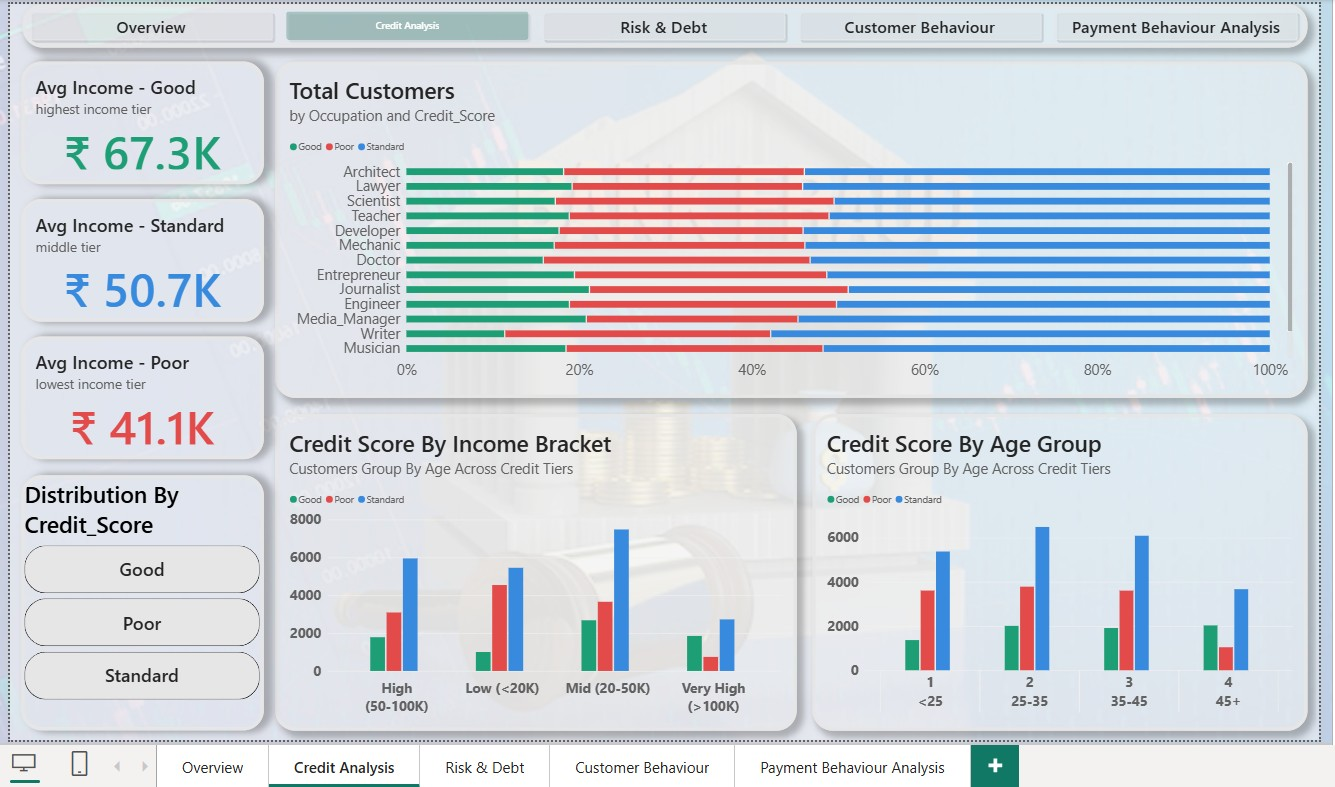

The dashboard page shown, as its layout file describes it:
{"tool":"powerbi","page":{"name":"Credit Analysis","canvas":[1920,1080],"ordinal":1},"visuals":[{"type":"hundredPercentStackedBarChart","fields":{"Category":["paisabazar_bank_fraud_detection_project-dataset.Occupation"],"Series":["paisabazar_bank_fraud_detection_project-dataset.Credit_Score"],"Y":["paisabazar_bank_fraud_detection_project-dataset.Total Customers"]},"box":[389.5,84.4,1514.9,493.4],"z":0},{"type":"clusteredColumnChart","title":"Credit Score By Age Group","fields":{"Y":["paisabazar_bank_fraud_detection_project-dataset.Total Customers"],"Series":["paisabazar_bank_fraud_detection_project-dataset.Credit_Score"],"Category":["paisabazar_bank_fraud_detection_project-dataset.Age Group","paisabazar_bank_fraud_detection_project-dataset.Age Group Order"]},"box":[1178.4,601.1,726.5,464.9],"z":1000},{"type":"clusteredColumnChart","title":"Credit Score By Income Bracket","fields":{"Y":["paisabazar_bank_fraud_detection_project-dataset.Total Customers"],"Series":["paisabazar_bank_fraud_detection_project-dataset.Credit_Score"],"Category":["paisabazar_bank_fraud_detection_project-dataset.Income Bracket"]},"box":[389.2,601.1,765.4,464.9],"z":3000},{"type":"card","title":"Avg Income - Good","fields":{"Values":["paisabazar_bank_fraud_detection_project-dataset.Avg Income Good"]},"box":[16.5,84.4,355.8,179.8],"z":4000},{"type":"card","title":"Avg Income - Poor","fields":{"Values":["paisabazar_bank_fraud_detection_project-dataset.Avg Income Poor"]},"box":[16.5,487.9,355.8,179.8],"z":5000},{"type":"card","title":"Avg Income - Standard","fields":{"Values":["paisabazar_bank_fraud_detection_project-dataset.Avg Income Standard"]},"box":[16.5,286.1,355.8,179.8],"z":6000},{"type":"advancedSlicerVisual","title":"Distribution By Credit_Score","fields":{"Values":["paisabazar_bank_fraud_detection_project-dataset.Credit_Score"]},"box":[16.5,691.5,355.8,374.2],"z":7000},{"type":"pageNavigator","box":[18.3,0,1885.6,64.2],"z":7001}]}

Visuals, with their boxes on the page's 1920x1080 design canvas (x1, y1, x2, y2). These are canvas units, not pixel positions in the 1335x787 screenshot, which may show the page scaled, cropped or inside an application window:
hundredPercentStackedBarChart - paisabazar_bank_fraud_detection_project-dataset.Occupation x paisabazar_bank_fraud_detection_project-dataset.Credit_Score: {"x1": 390, "y1": 84, "x2": 1904, "y2": 578}
"Credit Score By Age Group" clusteredColumnChart: {"x1": 1178, "y1": 601, "x2": 1905, "y2": 1066}
"Credit Score By Income Bracket" clusteredColumnChart: {"x1": 389, "y1": 601, "x2": 1155, "y2": 1066}
"Avg Income - Good" card: {"x1": 16, "y1": 84, "x2": 372, "y2": 264}
"Avg Income - Poor" card: {"x1": 16, "y1": 488, "x2": 372, "y2": 668}
"Avg Income - Standard" card: {"x1": 16, "y1": 286, "x2": 372, "y2": 466}
"Distribution By Credit_Score" advancedSlicerVisual: {"x1": 16, "y1": 692, "x2": 372, "y2": 1066}
pageNavigator: {"x1": 18, "y1": 0, "x2": 1904, "y2": 64}
